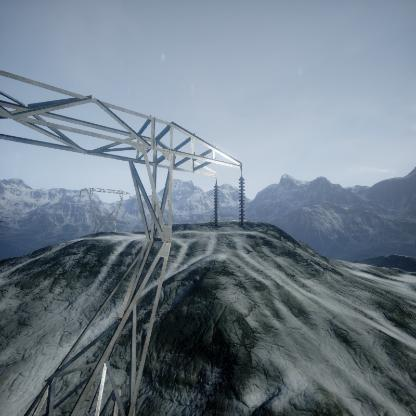insulator: (235, 176, 248, 224), (213, 184, 220, 231)
